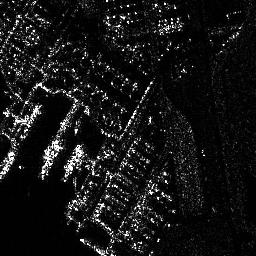ship: (62, 143, 84, 182), (41, 137, 61, 179)
